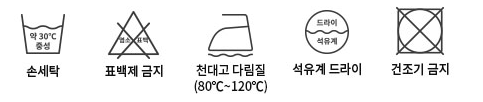KR_dry_clean_petroleum: (302, 5, 351, 55)
KR_hand_wash_30_neutral: (18, 9, 67, 56)
KR_no_chlorine_bleach: (103, 7, 162, 61)
KR_no_tumble_dry: (392, 3, 448, 58)
